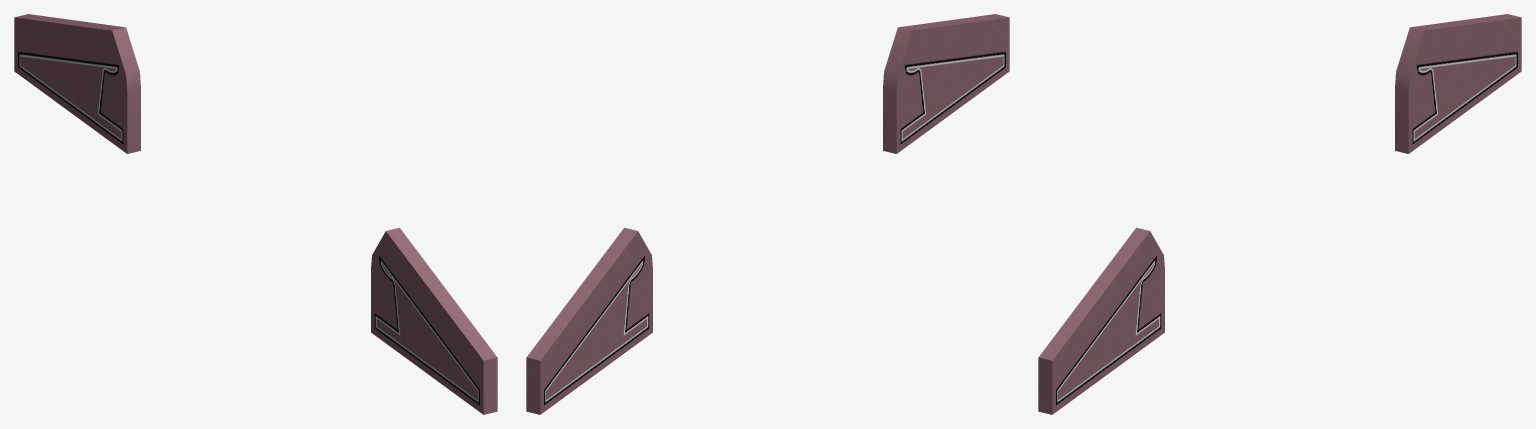
Rendered from SM_GJJ_HG_Wall02I.fbx.
3 views of the same model, side by side, from view 1: azimuth 30°, elevation 25°; view 2: azimuth 150°, elevation 25°; view 3: azimuth 330°, elevation 25° (orthographic).
Parts seen in each view (by area): view 1: SM_GJJ_HG_Wall02I; view 2: SM_GJJ_HG_Wall02I; view 3: SM_GJJ_HG_Wall02I.
Boxes of the visible parts, box(x1,y1,x2,y2) form: SM_GJJ_HG_Wall02I: box(14, 14, 497, 414); SM_GJJ_HG_Wall02I: box(526, 14, 1009, 414); SM_GJJ_HG_Wall02I: box(1038, 14, 1521, 414).
Bounding box in the file's own units: 10 × 587 × 77.59.
Materials: 1 (1 with a texture image).
